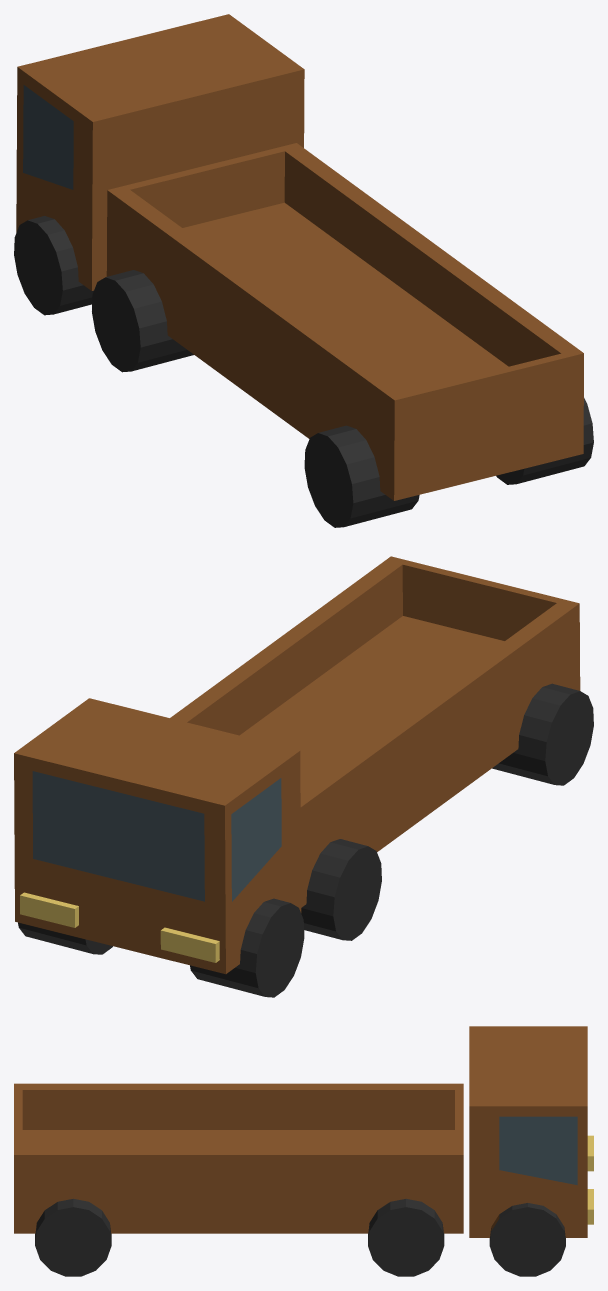
File: LKW.glb
3 views of the same model, one above another, from view 1: azimuth 30°, elevation 25°; view 2: azimuth 150°, elevation 25°; view 3: azimuth 270°, elevation 25° (orthographic). The views are drawn at different scales.
Parts seen in each view (by area): view 1: Cylinder; view 2: Cylinder; view 3: Cylinder.
Boxes of the visible parts, box(x1,y1,x2,y2) form: Cylinder: box(14, 14, 593, 527); Cylinder: box(14, 556, 593, 997); Cylinder: box(14, 1026, 593, 1276).
Size of the model in its own units: 2.32 by 1.96 by 6.14.
